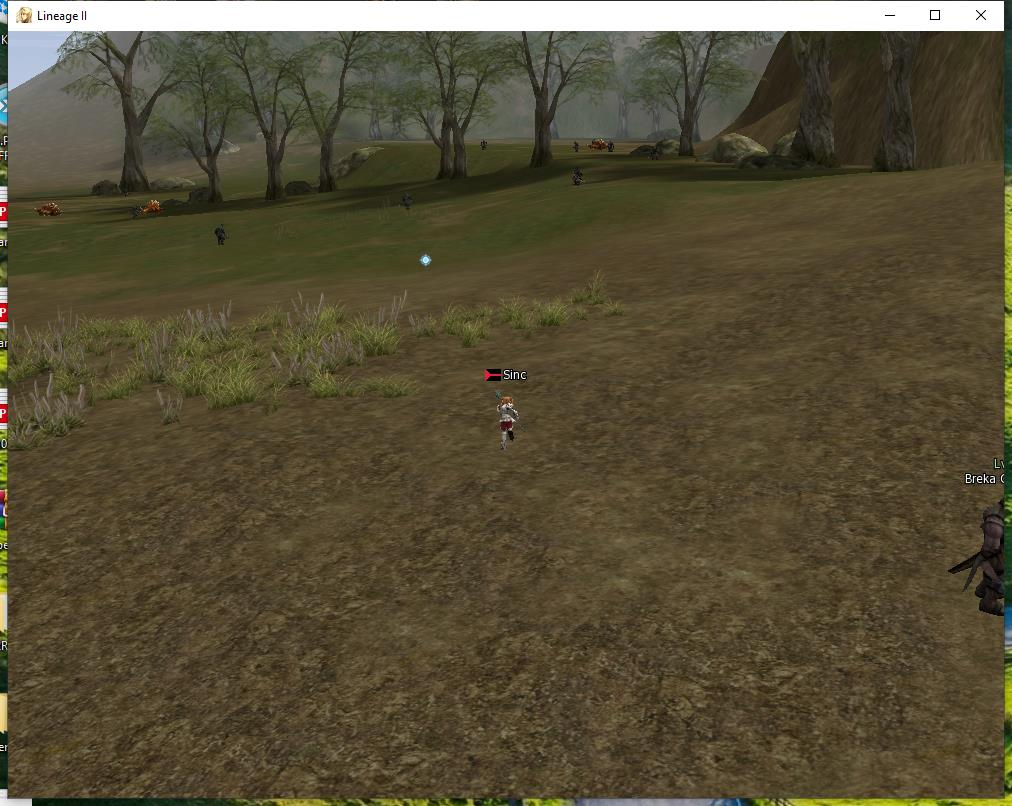monster: (956, 446, 1012, 633), (36, 199, 69, 217), (590, 132, 616, 154), (212, 218, 230, 244), (570, 168, 587, 186), (399, 193, 412, 212), (572, 138, 583, 156)
